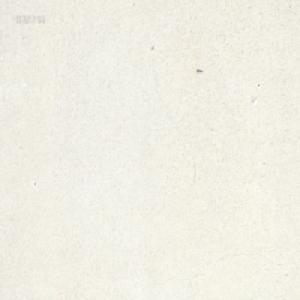Nail: (197, 69, 203, 73)
